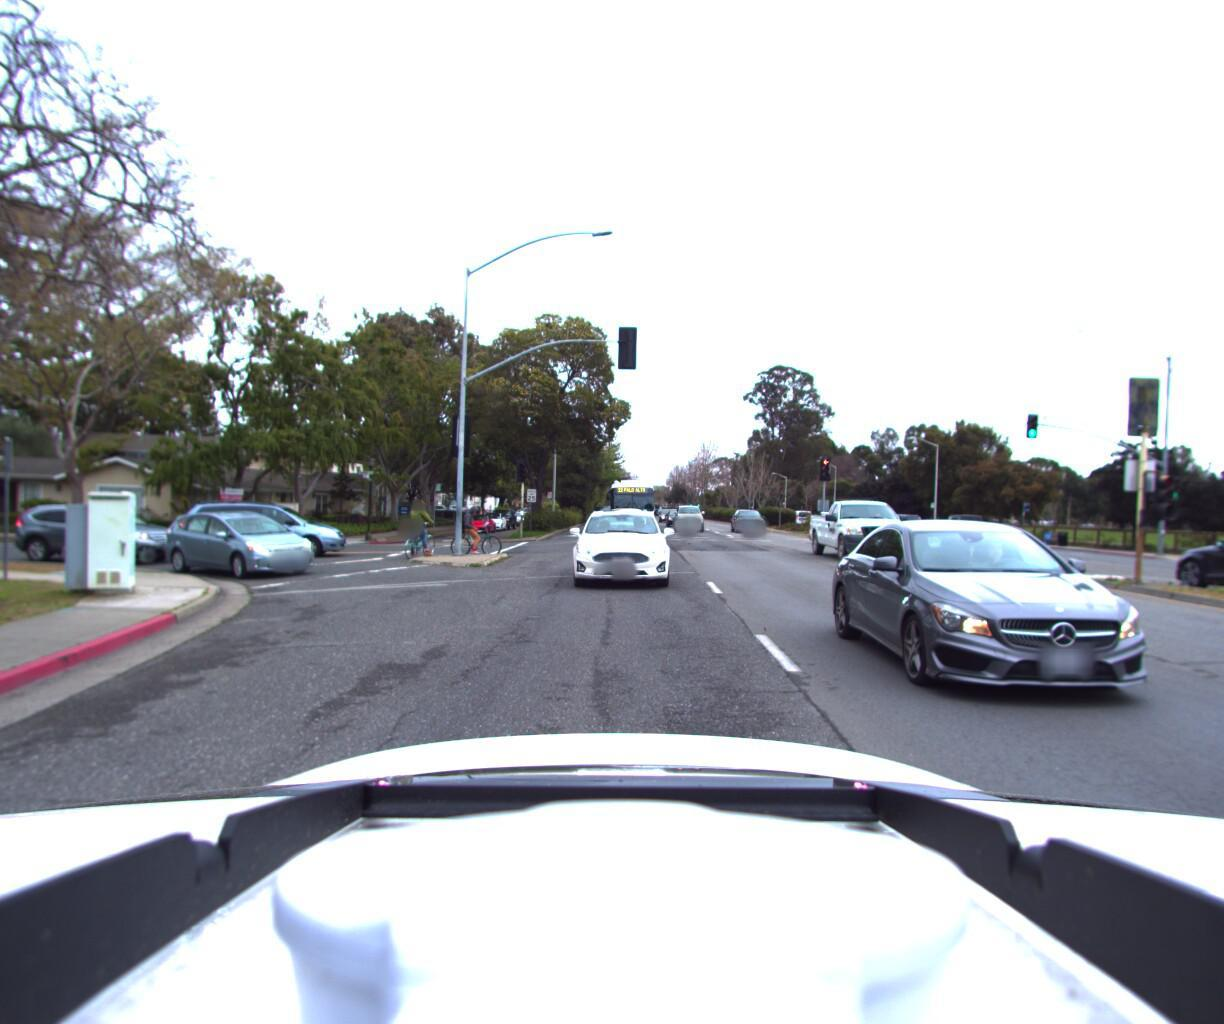bicycle: (389, 498, 453, 565), (440, 503, 504, 561)
car: (845, 519, 1224, 762), (151, 509, 332, 585), (0, 503, 192, 573), (174, 499, 351, 564), (809, 489, 932, 573), (572, 506, 681, 594), (1155, 525, 1224, 616), (928, 516, 977, 544), (673, 502, 706, 533), (458, 513, 498, 535), (730, 508, 766, 533), (485, 508, 517, 531), (474, 513, 509, 532)
other_vehicle: (604, 479, 658, 533)
